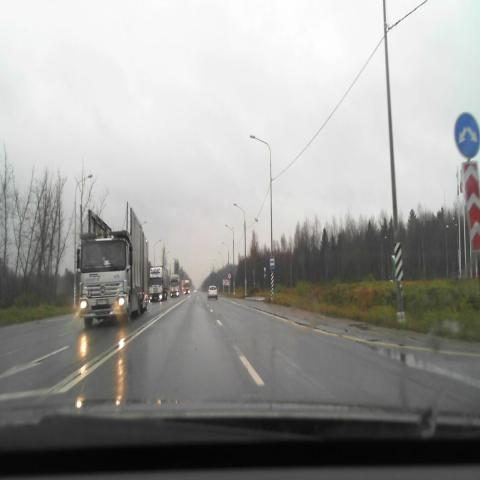4_2_3: (454, 112, 480, 158)
